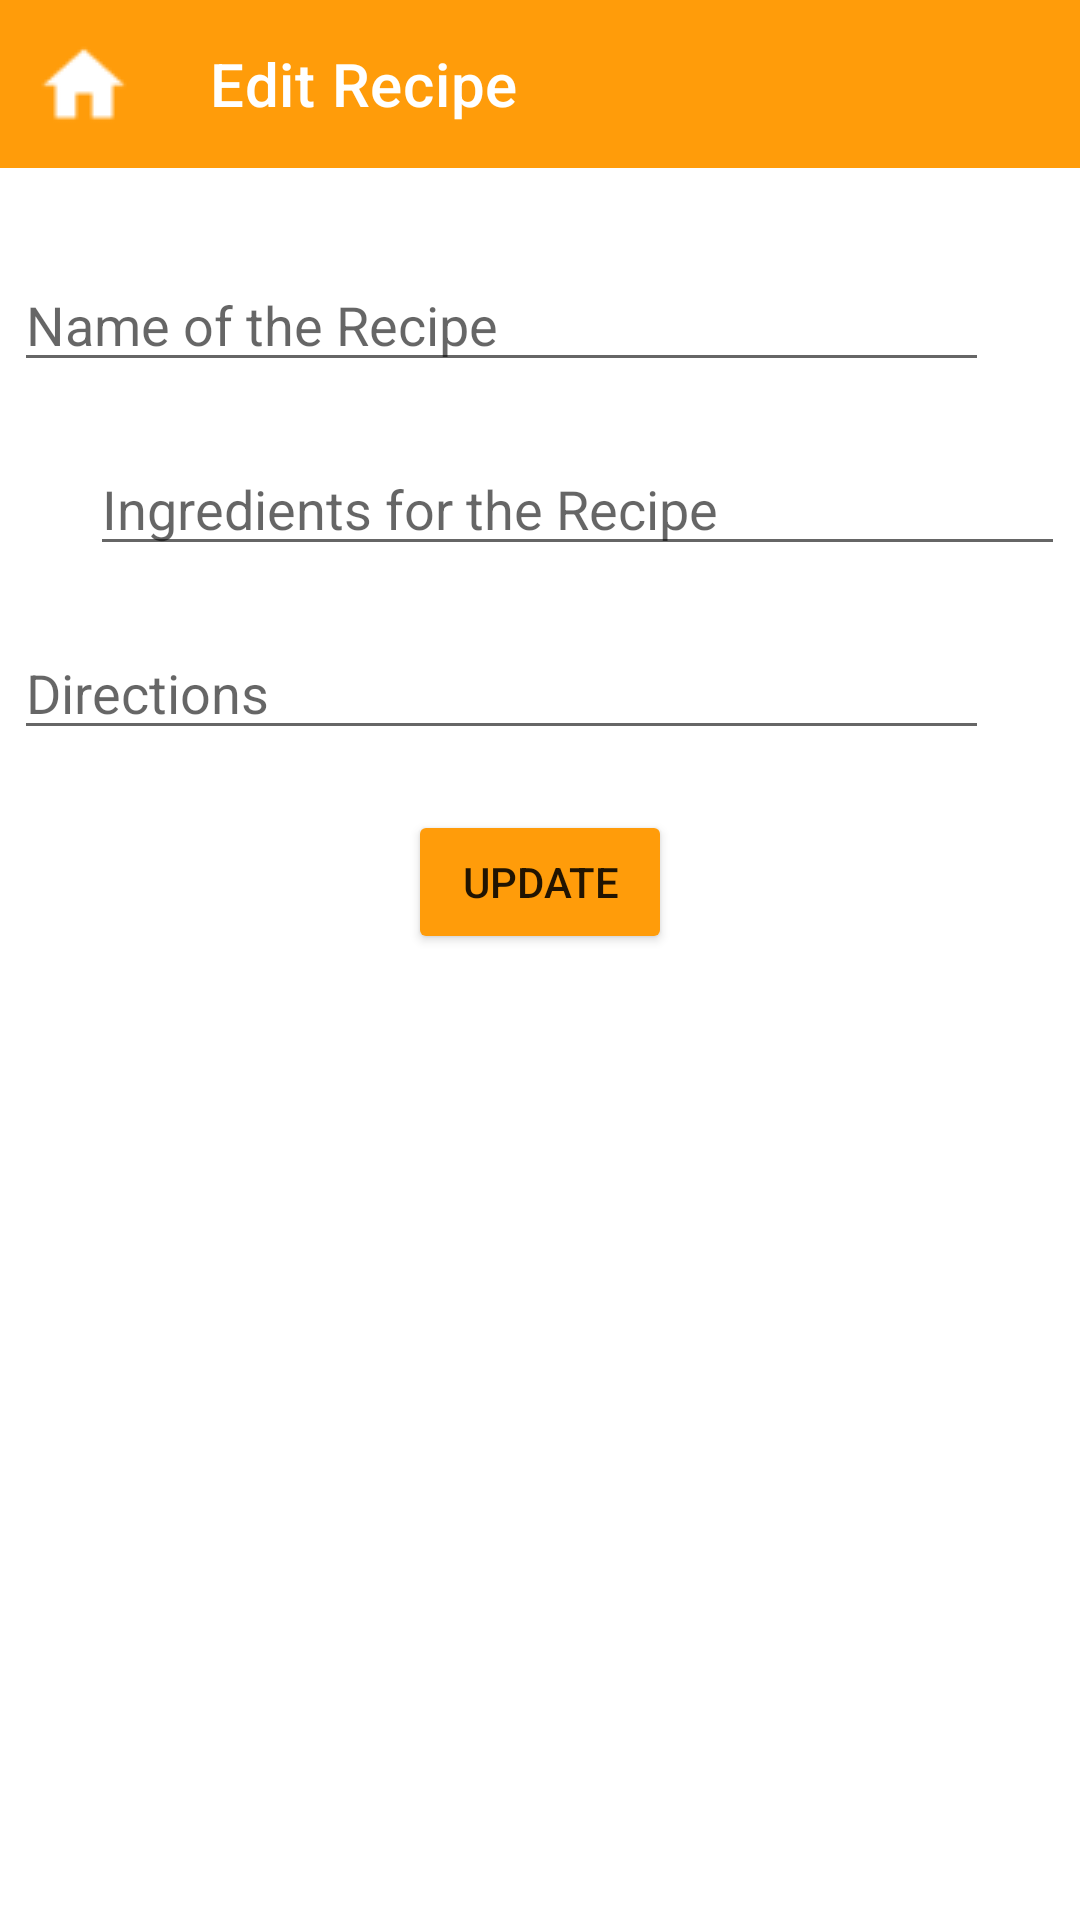

Icon bounding boxes for this 1080*1920 phone screenshot, format bbox=[x1, y1, x2, y2]:
home: bbox=[42, 49, 125, 120]
